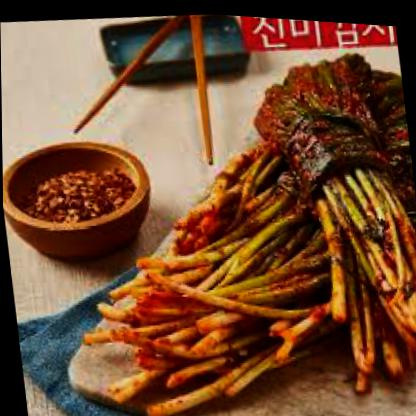green onion Kimchi: (101, 60, 415, 413)
